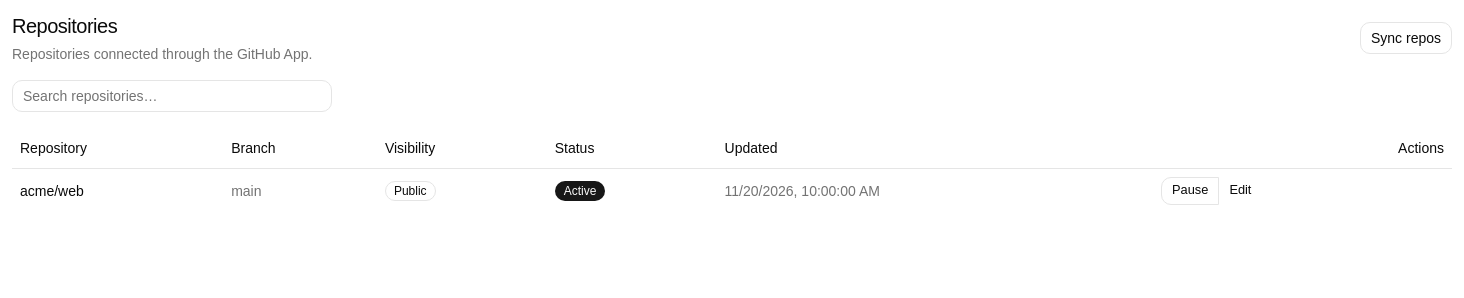
Test: repositories › renders an error state when sync is forbidden
Click the button "Sync repos" at (1406, 38), box [1360, 22, 1452, 54]
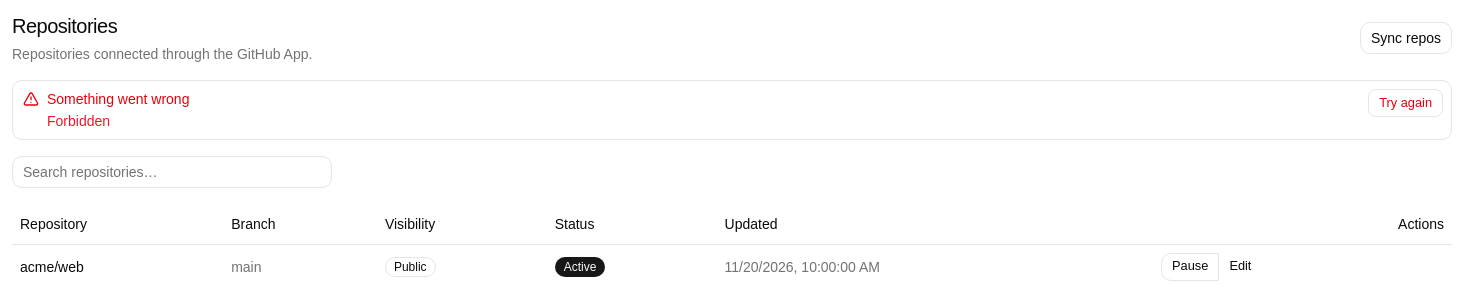
Now the text "Something went wrong" is shown, box [47, 91, 189, 107]
Now the text "Forbidden" is shown, box [47, 113, 110, 129]
